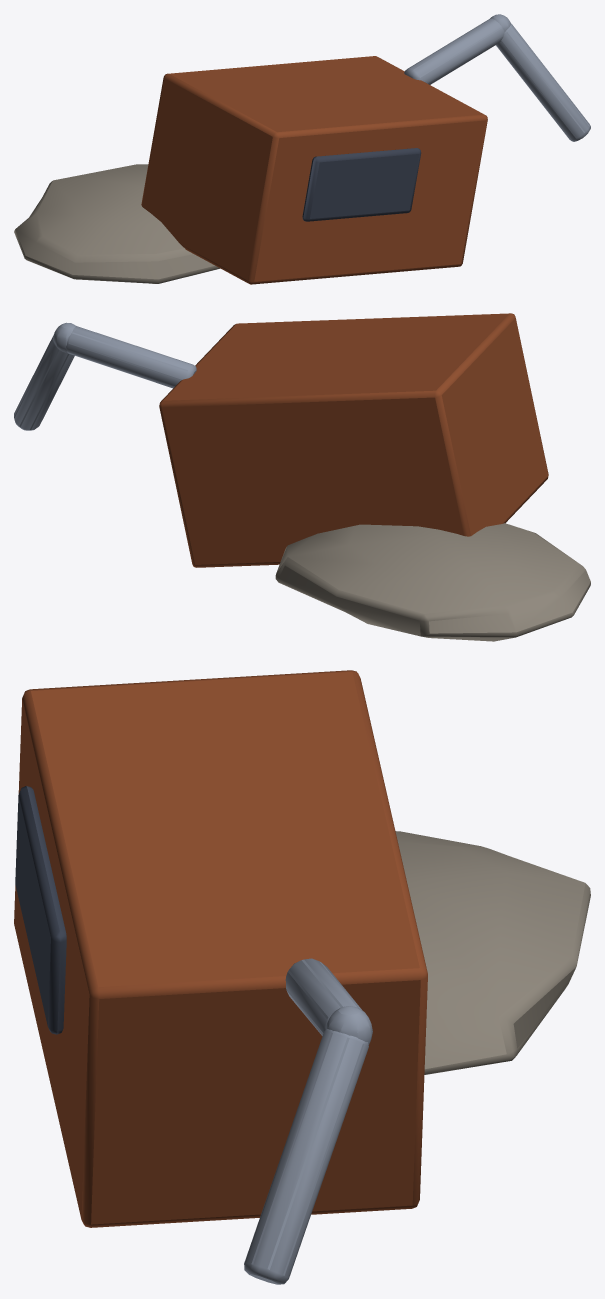
The model's file is schmutz_schrott_3.fbx.
3 views of the same model, one above another, from view 1: azimuth 30°, elevation 25°; view 2: azimuth 150°, elevation 25°; view 3: azimuth 270°, elevation 25° (orthographic). The views are drawn at different scales.
Visible parts, largest first — view 1: schmutz_schrott_3_Koerper; view 2: schmutz_schrott_3_Koerper; view 3: schmutz_schrott_3_Koerper.
Boxes of the visible parts, x1=… form: schmutz_schrott_3_Koerper: x1=14, y1=14, x2=590, y2=284; schmutz_schrott_3_Koerper: x1=14, y1=313, x2=590, y2=641; schmutz_schrott_3_Koerper: x1=14, y1=670, x2=590, y2=1284.
Size of the model in its own units: 1.32 by 0.4629 by 0.6752.
